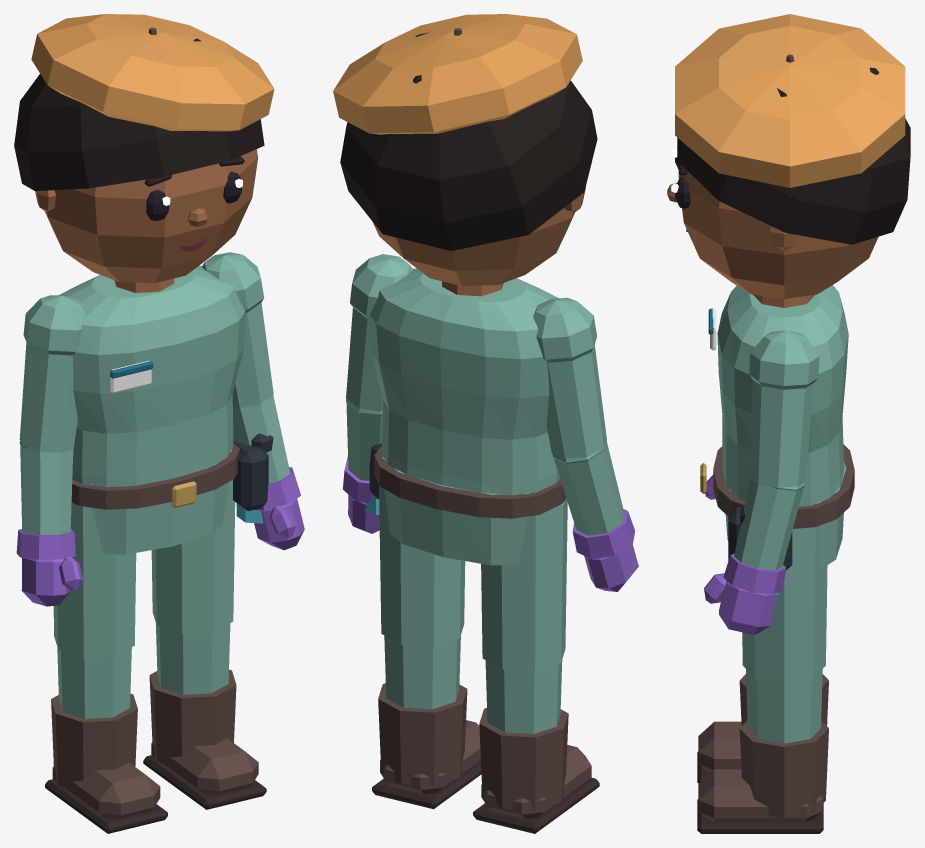
The model's file is rei_spo.glb.
The picture shows the model from 3 angles, left to right: view 1: azimuth 30°, elevation 25°; view 2: azimuth 150°, elevation 25°; view 3: azimuth 270°, elevation 25°; orthographic projection. The views are drawn at different scales.
Parts seen in each view (by area): view 1: torso, kopfbedeckung, kopf, haare, arm_r, bein_r, bein_l, schuh_r, schuh_l, arm_l, becken, gürtel (+5 smaller); view 2: torso, haare, kopfbedeckung, bein_r, arm_r, bein_l, schuh_r, schuh_l, arm_l, kopf, becken, gürtel (+3 smaller); view 3: kopfbedeckung, arm_l, torso, bein_l, haare, kopf, schuh_l, gürtel, schuh_r, hand_l, becken, accessoire_sprayholster (+2 smaller).
Boxes of the visible parts, x1,y1,x2,y2 form: torso: (59, 265, 245, 487); kopfbedeckung: (31, 14, 274, 131); kopf: (35, 149, 258, 283); haare: (14, 38, 264, 190); arm_r: (16, 295, 85, 559); bein_r: (53, 502, 136, 718); bein_l: (151, 479, 235, 694); schuh_r: (45, 693, 167, 833); schuh_l: (143, 669, 266, 809); arm_l: (202, 252, 301, 510); becken: (88, 449, 232, 554); gürtel: (71, 444, 239, 509); torso: (369, 268, 559, 495); haare: (340, 32, 597, 250); kopfbedeckung: (333, 14, 582, 134); bein_r: (481, 499, 567, 733); arm_r: (533, 297, 634, 559); bein_l: (379, 485, 465, 709); schuh_r: (473, 708, 599, 833); schuh_l: (372, 683, 481, 809); arm_l: (343, 254, 413, 503); kopf: (373, 186, 585, 286); becken: (382, 457, 530, 565); gürtel: (374, 446, 566, 518); kopfbedeckung: (675, 14, 905, 187); arm_l: (723, 330, 819, 594); torso: (717, 285, 848, 506); bein_l: (742, 526, 827, 743); haare: (677, 67, 910, 244); kopf: (678, 171, 878, 298); schuh_l: (697, 720, 828, 833); gürtel: (700, 444, 854, 528); schuh_r: (697, 674, 828, 783); hand_l: (704, 573, 777, 634); becken: (725, 462, 846, 568); accessoire_sprayholster: (728, 506, 792, 594).
Size of the model in its own units: 0.00962 by 0.0248 by 0.0073.
